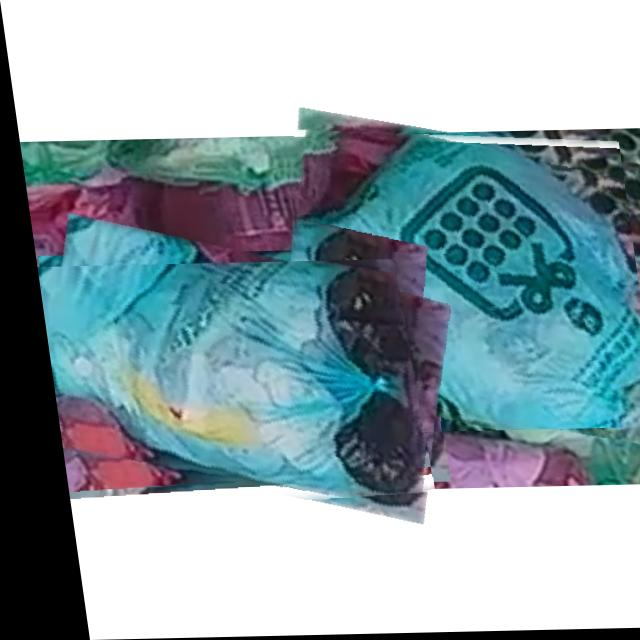general_trashbag: (289, 134, 637, 432), (39, 263, 412, 500)
